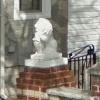Statue: (18, 10, 72, 76)
